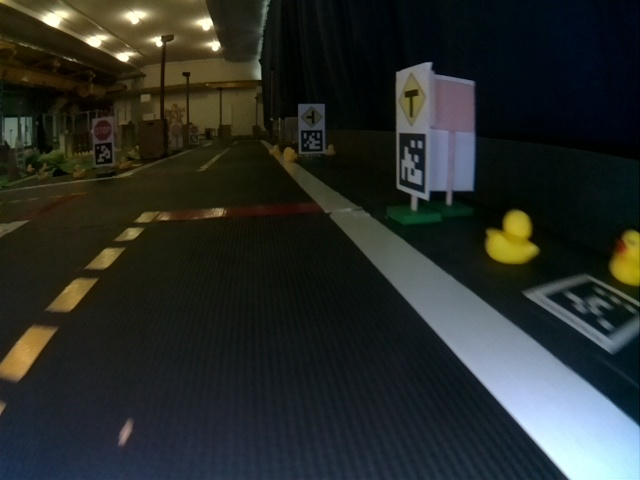Duckie: (486, 213, 535, 263), (609, 230, 639, 287), (283, 148, 296, 160), (270, 144, 279, 154), (72, 165, 79, 176), (330, 146, 335, 154)
Intersection sign: (398, 72, 429, 124), (302, 104, 324, 128)
QR code: (528, 275, 638, 354), (396, 134, 428, 195), (301, 130, 324, 152), (95, 143, 109, 163)
Stop sign: (93, 119, 110, 140)
